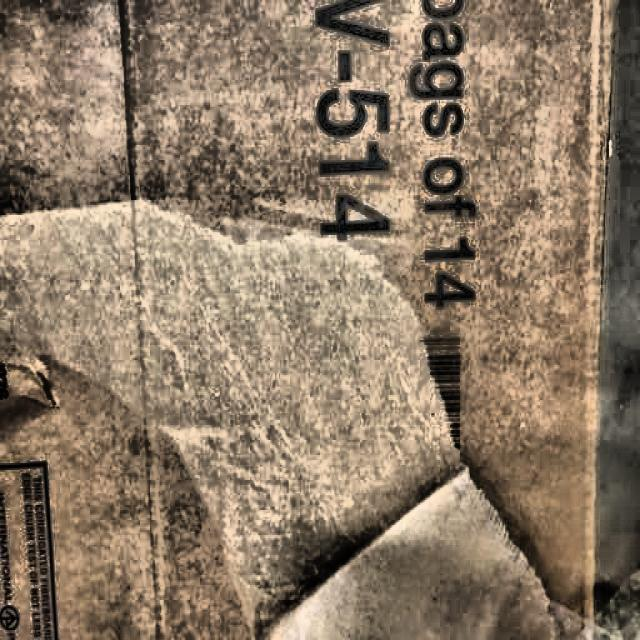cardboard: (0, 1, 610, 640)
